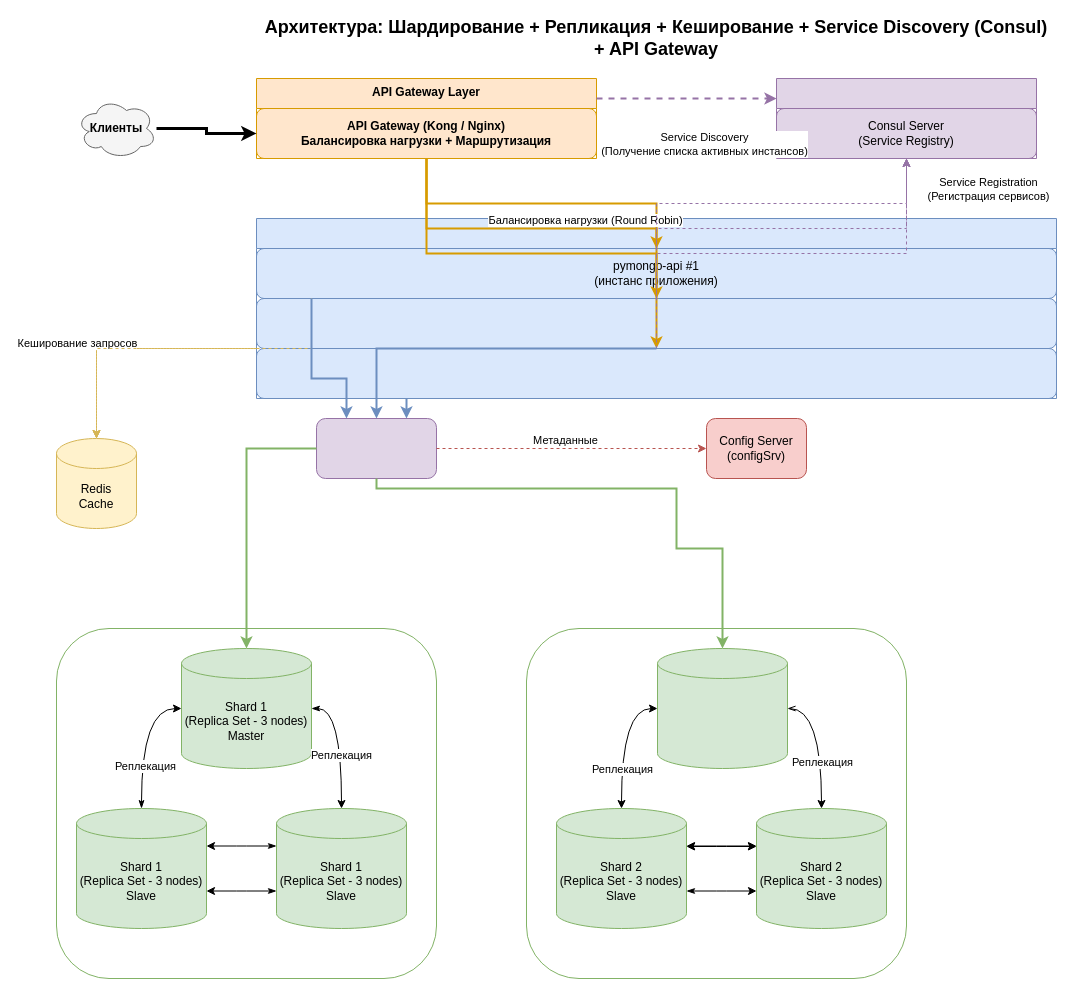
Image size: 1074x996. Some labels were removed from this diagram. The box of each missing label's shape, as (x1, y1, x2, y2) in pixels:
Application Instances (Горизонтальное масштабирование): (256, 218, 1056, 398)
mongos (Query Router): (316, 418, 436, 478)
pymongo-api #2 (инстанс приложения): (256, 298, 1056, 348)
pymongo-api #3 (инстанс приложения): (256, 348, 1056, 398)
Service Discovery Layer (Hashicorp Consul): (776, 78, 1036, 158)
Shard 2 (Replica Set - 3 nodes): (656, 648, 788, 768)
